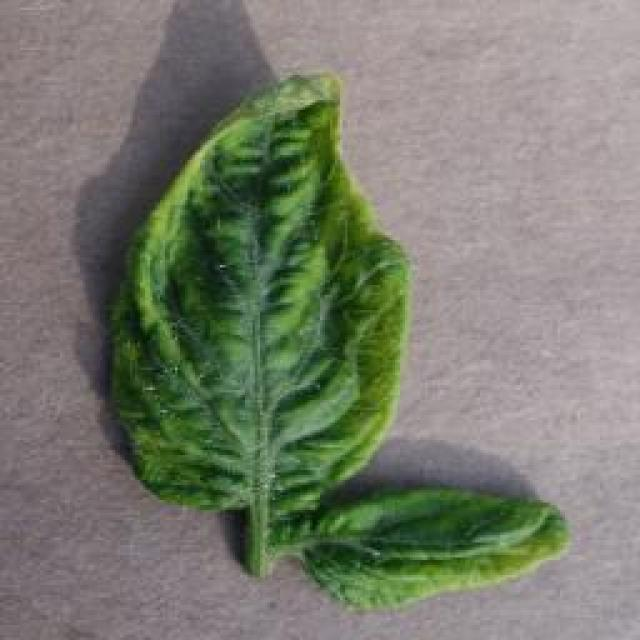Tomato yellow virus leaf: (111, 74, 412, 508), (308, 478, 574, 610)
